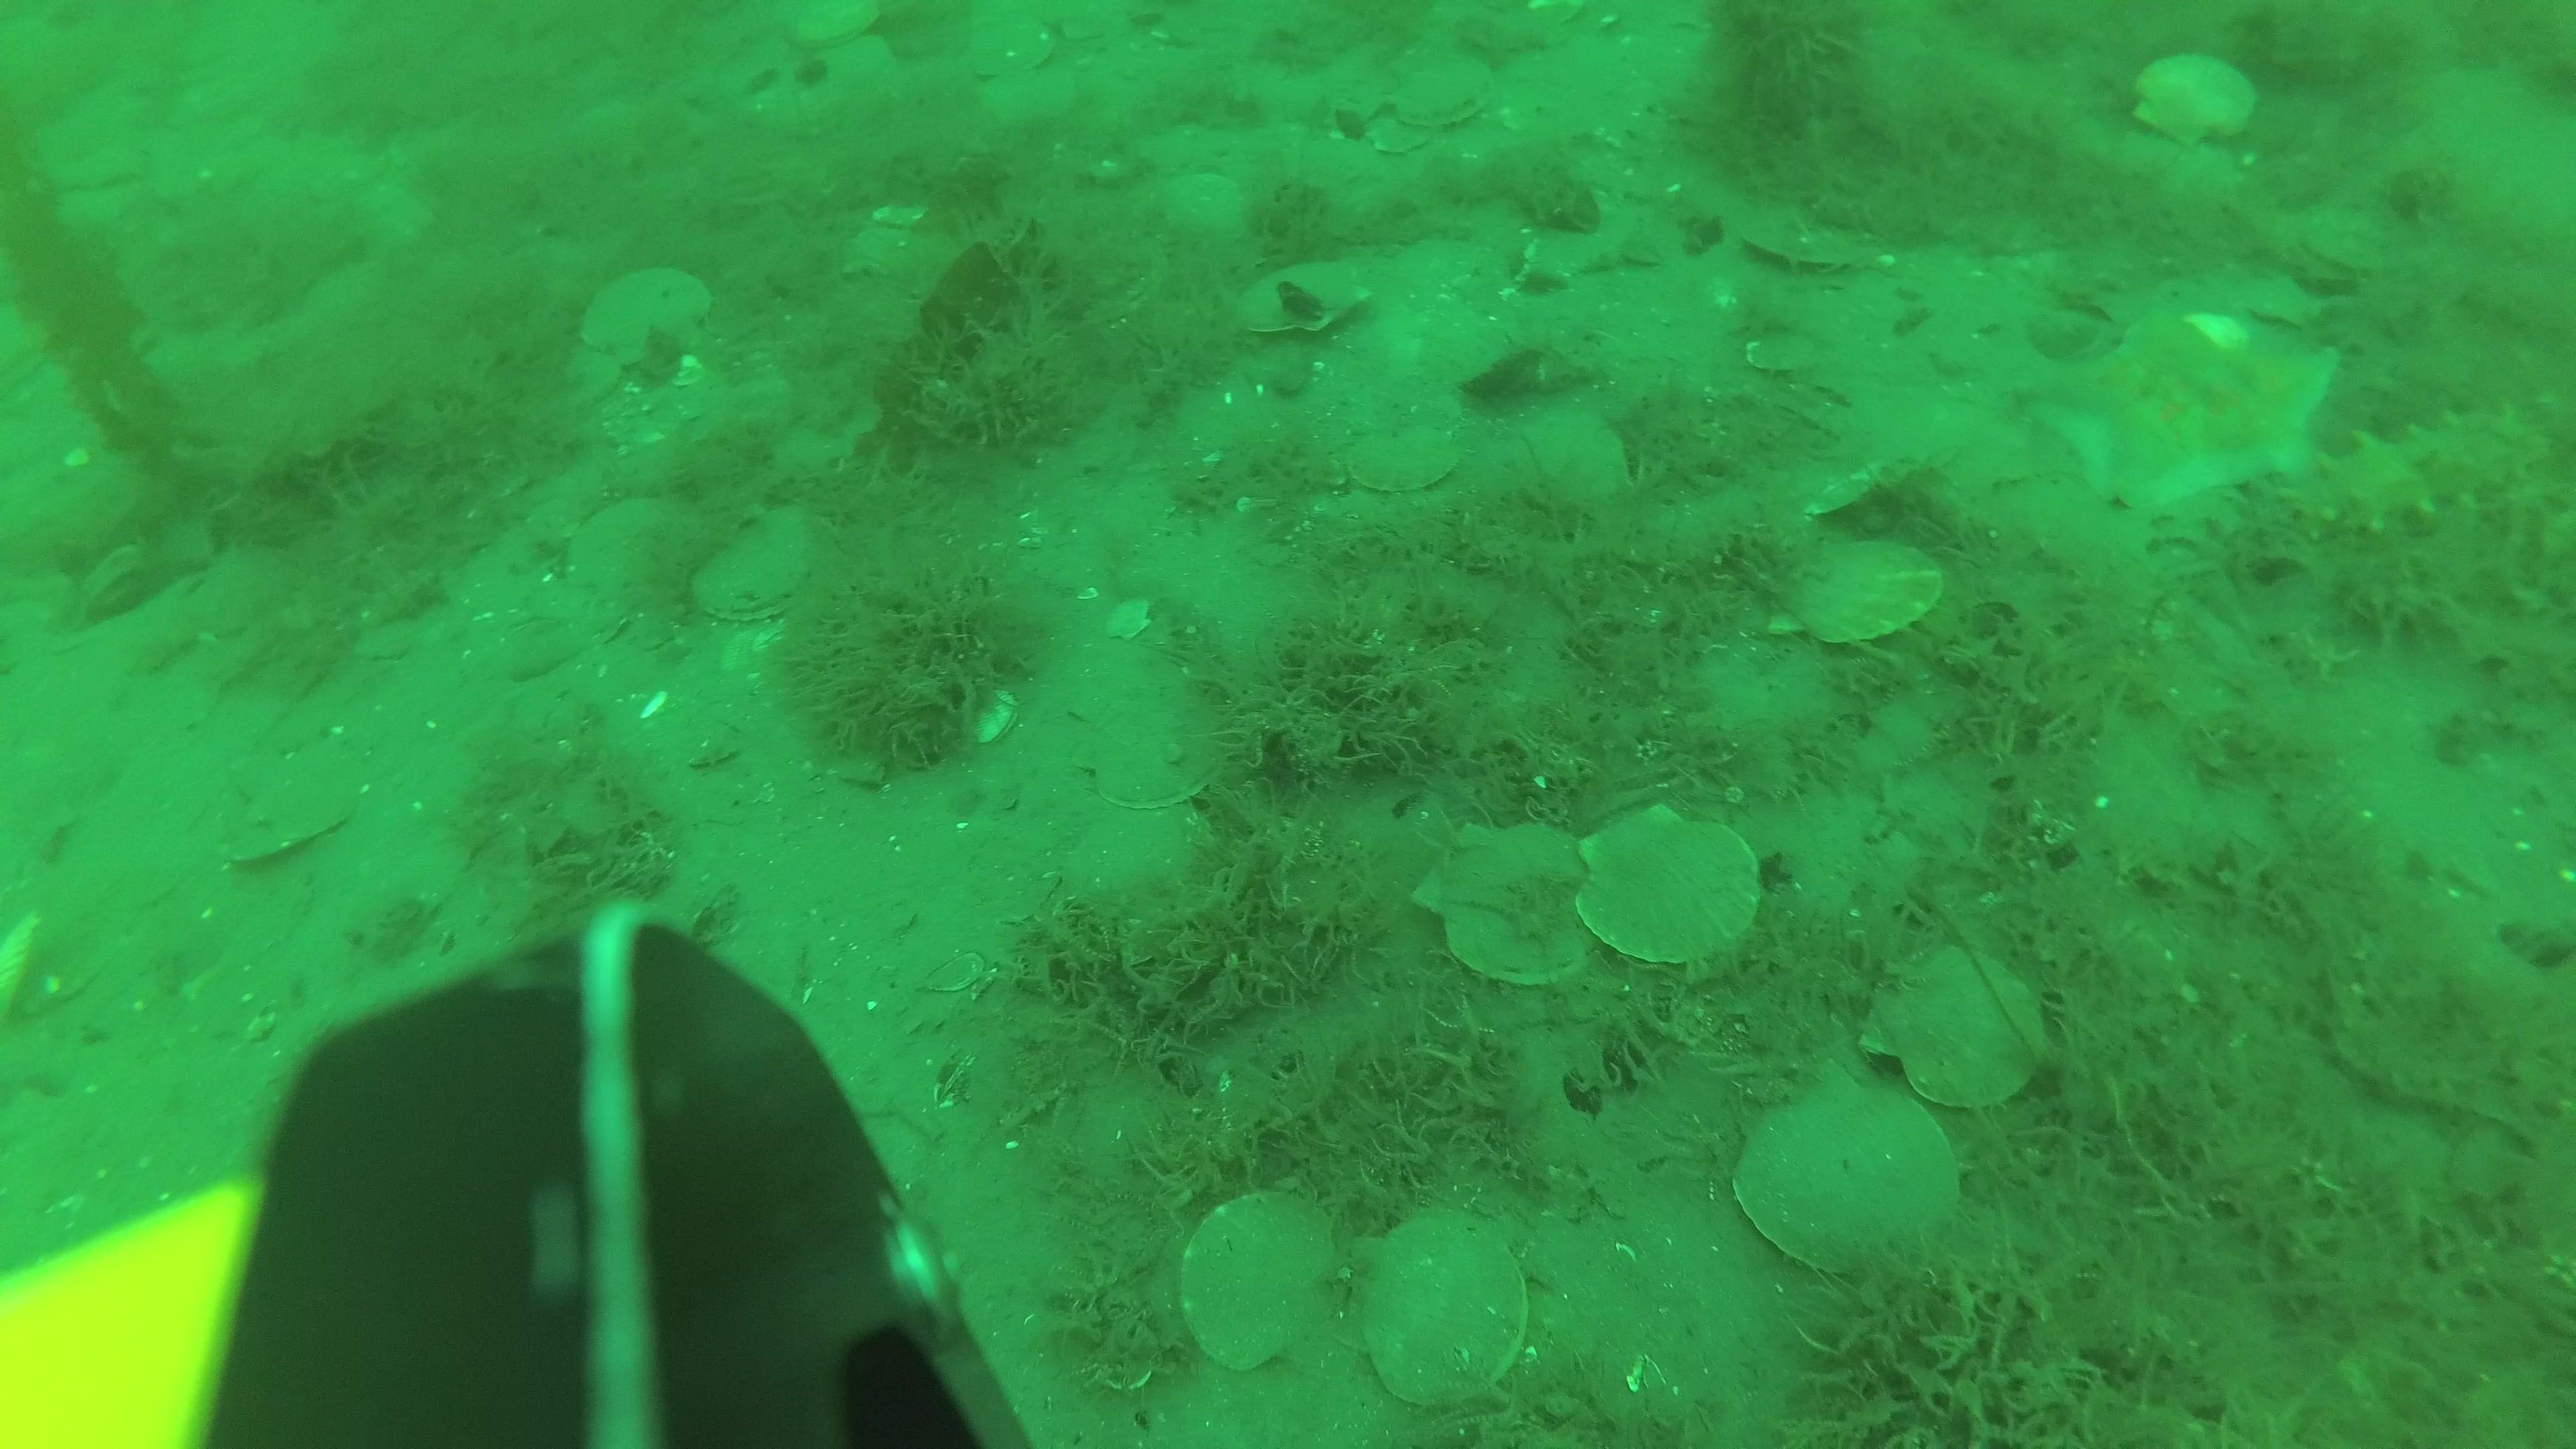holothurian: (2307, 366, 2576, 556)
scallop: (1732, 1083, 1964, 1277), (1419, 830, 1619, 998), (1364, 1219, 1532, 1410), (1861, 948, 2045, 1120), (1576, 810, 1769, 970), (1182, 1191, 1343, 1378), (1787, 538, 1953, 656), (694, 524, 826, 630), (2132, 46, 2270, 147), (1516, 405, 1640, 517), (1237, 253, 1373, 347), (571, 497, 690, 602), (582, 276, 706, 357), (1345, 419, 1470, 499), (219, 809, 357, 872), (2291, 211, 2404, 287), (1746, 216, 1867, 287), (1387, 64, 1504, 134), (966, 11, 1060, 80), (787, 2, 890, 55)
starfish: (2017, 303, 2351, 543)
